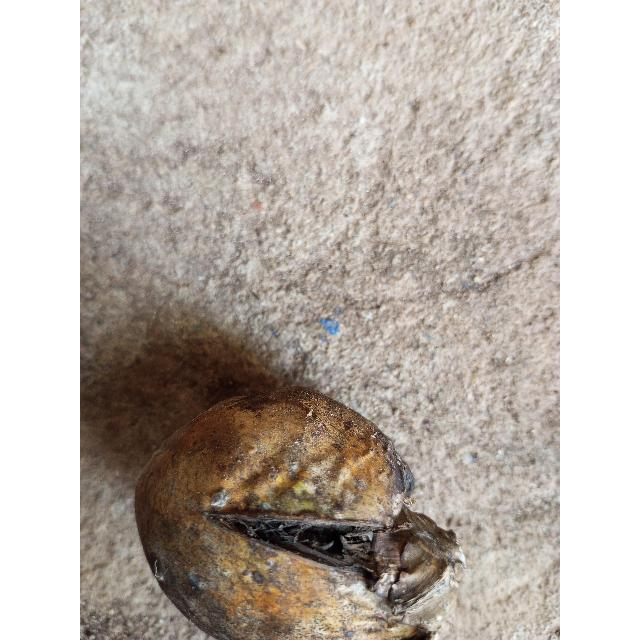damaged: (136, 387, 465, 640)
